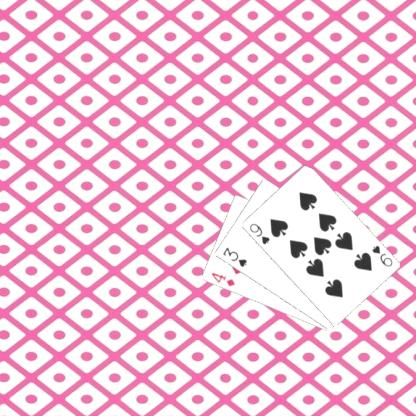3S: (220, 244, 248, 268)
4D: (208, 270, 236, 288)
9S: (368, 242, 394, 268), (246, 220, 271, 246)
